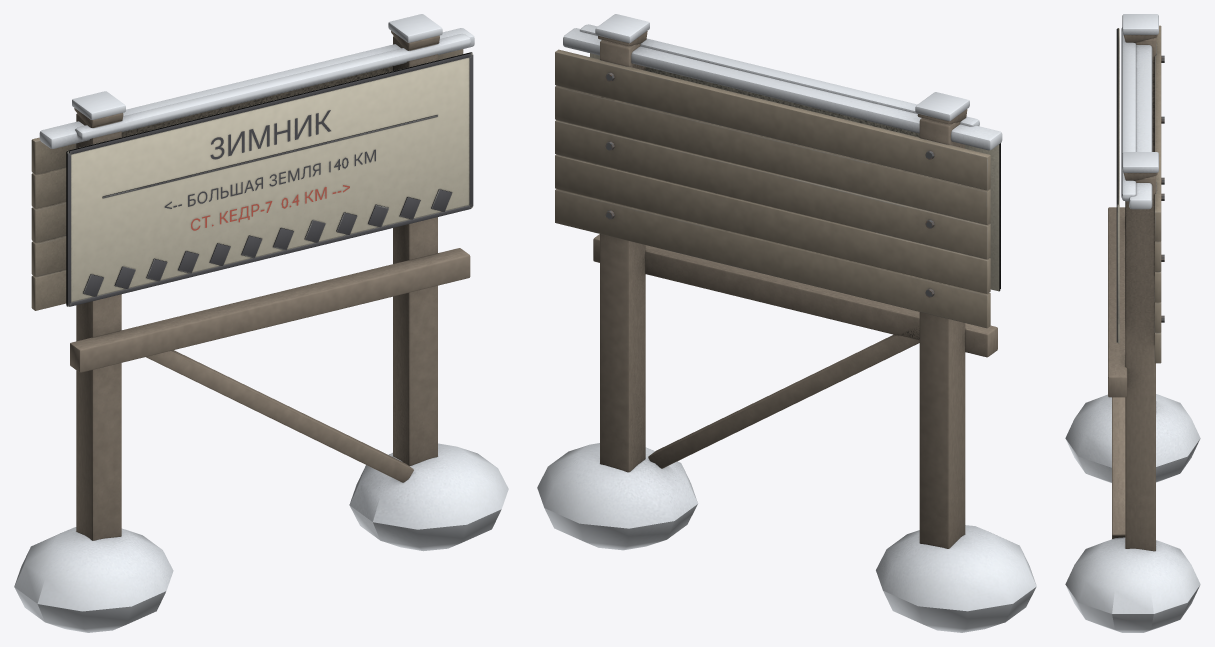
The model's file is zimnik_sign.glb.
3 renders of one model, left to right at view 1: azimuth 30°, elevation 25°; view 2: azimuth 150°, elevation 25°; view 3: azimuth 270°, elevation 25°, orthographic. The views are drawn at different scales.
Visible parts, largest first — view 1: zimnik_sign; view 2: zimnik_sign; view 3: zimnik_sign.
Part boxes in pixels (x1,y1,x2,y2): zimnik_sign: (14,14,508,632); zimnik_sign: (537,14,1036,632); zimnik_sign: (1065,14,1200,632).
Bounding box in the file's own units: 2.53 × 2.64 × 0.704.
Materials: 1 (1 with a texture image).
